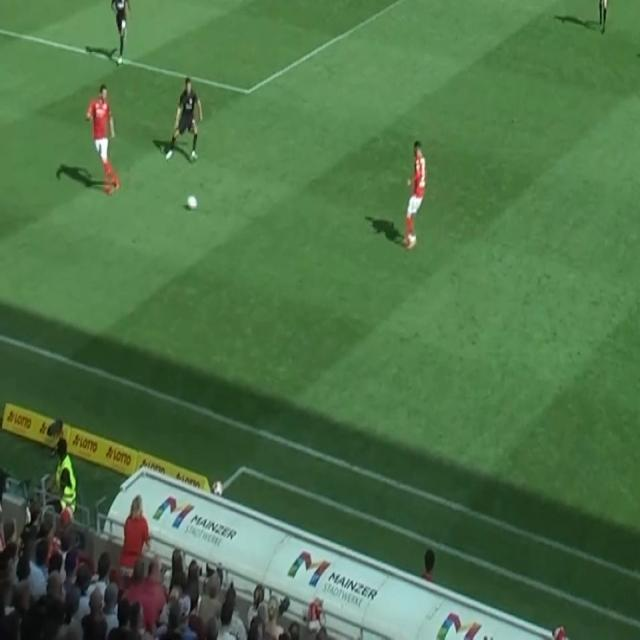ball: (186, 193, 198, 211)
